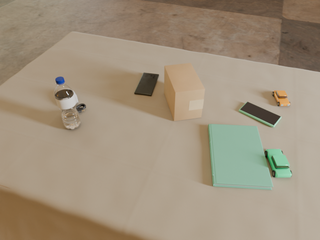book: (208, 124, 273, 190)
bottle: (54, 77, 81, 130)
box: (164, 63, 205, 121)
phone: (239, 102, 281, 127), (134, 73, 159, 96)
toy_car: (265, 149, 292, 178), (272, 91, 290, 106)
